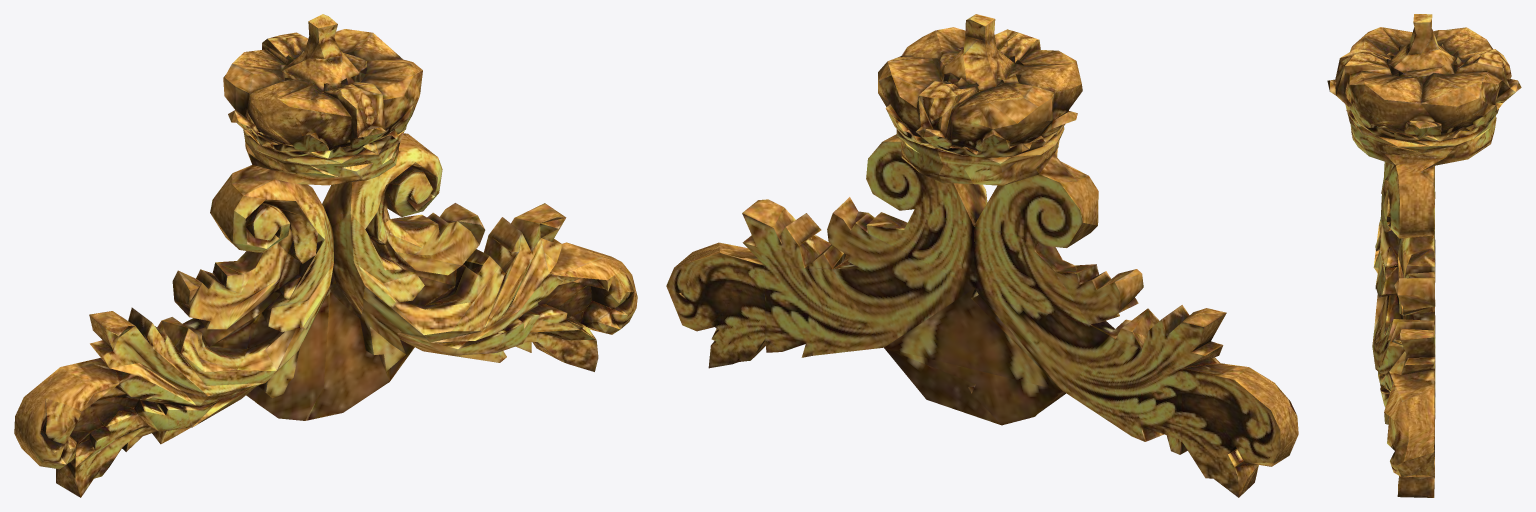
File: crown.glb
3 renders of one model, left to right at view 1: azimuth 30°, elevation 25°; view 2: azimuth 150°, elevation 25°; view 3: azimuth 270°, elevation 25°, orthographic. The views are drawn at different scales.
Visible parts, largest first — view 1: Mesh_0; view 2: Mesh_0; view 3: Mesh_0.
Boxes of the visible parts, left/top/right/bottom form: Mesh_0: left=14, top=14, right=637, bottom=497; Mesh_0: left=666, top=14, right=1298, bottom=497; Mesh_0: left=1327, top=14, right=1521, bottom=497.
Bounding box in the file's own units: 1.9 × 1.21 × 0.579.
Materials: 1 (1 with a texture image).
